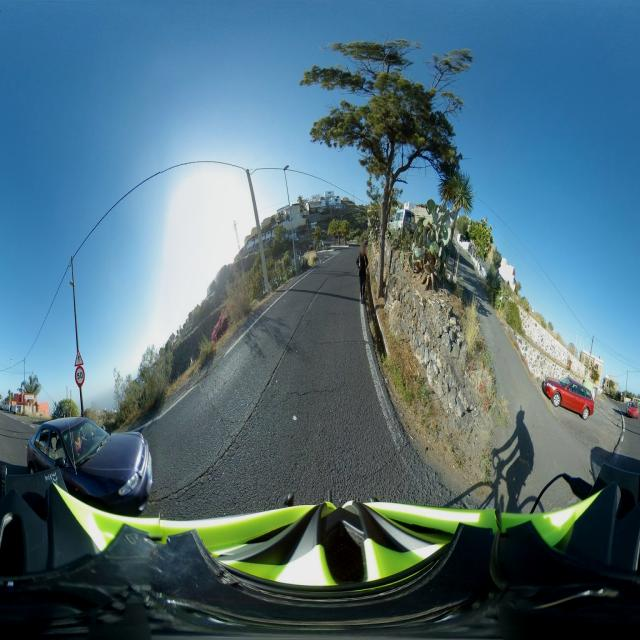car: (26, 415, 153, 512), (26, 416, 153, 480), (542, 374, 596, 418)
